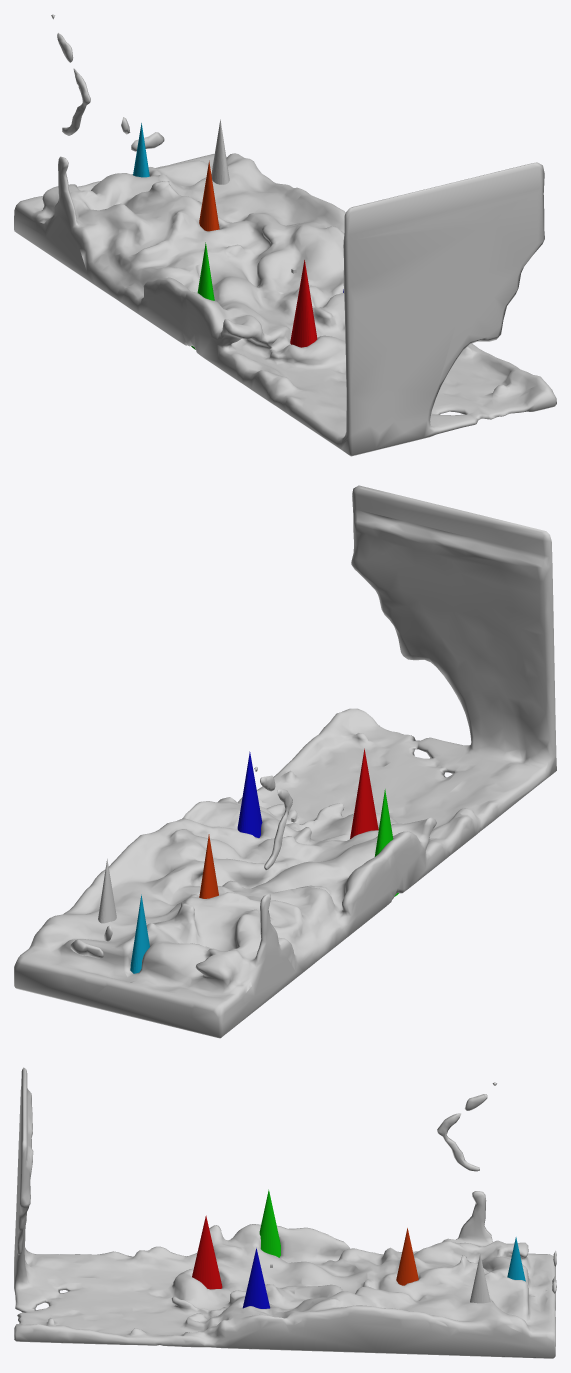
3 views of the same model, one above another, from view 1: azimuth 30°, elevation 25°; view 2: azimuth 150°, elevation 25°; view 3: azimuth 270°, elevation 25° (orthographic). The views are drawn at different scales.
Visible parts, largest first — view 1: Liquid_Domain, 円錐.001, 円錐.004, 円錐, 円錐.003; view 2: Liquid_Domain, 円錐.001, 円錐.002, 円錐.005, 円錐.004, 円錐; view 3: Liquid_Domain, 円錐.001, 円錐.002, 円錐.003, 円錐.004, 円錐, 円錐.005.
Part boxes in pixels (x1=…): Liquid_Domain: x1=14, y1=14, x2=556, y2=456; 円錐.001: x1=290, y1=260, x2=317, y2=347; 円錐.004: x1=199, y1=160, x2=219, y2=231; 円錐: x1=211, y1=119, x2=229, y2=184; 円錐.003: x1=191, y1=242, x2=214, y2=349; Liquid_Domain: x1=14, y1=485, x2=556, y2=1038; 円錐.001: x1=350, y1=748, x2=378, y2=838; 円錐.002: x1=237, y1=751, x2=262, y2=837; 円錐.005: x1=130, y1=894, x2=149, y2=973; 円錐.004: x1=199, y1=834, x2=218, y2=898; 円錐: x1=98, y1=859, x2=116, y2=923; Liquid_Domain: x1=14, y1=1067, x2=556, y2=1358; 円錐.001: x1=192, y1=1215, x2=222, y2=1289; 円錐.002: x1=242, y1=1248, x2=269, y2=1308; 円錐.003: x1=259, y1=1189, x2=280, y2=1257; 円錐.004: x1=396, y1=1228, x2=418, y2=1285; 円錐: x1=470, y1=1254, x2=490, y2=1303; 円錐.005: x1=507, y1=1237, x2=525, y2=1281.
Size of the model in its own units: 129 by 158 by 362.
